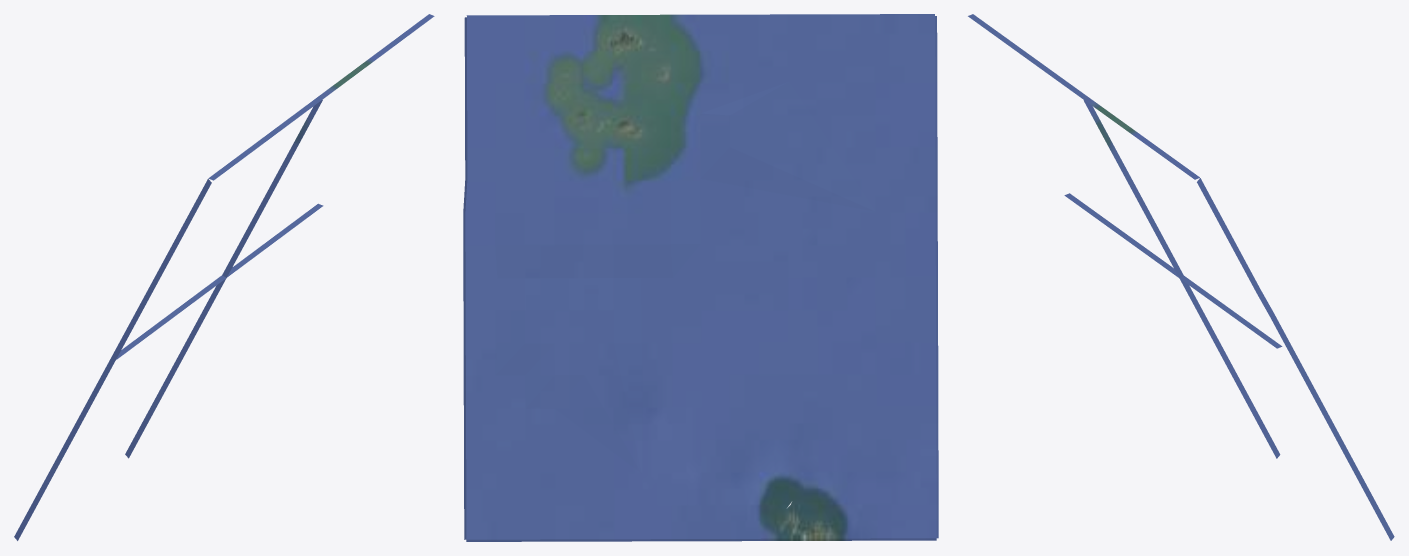
3 views of the same model, side by side, from view 1: azimuth 30°, elevation 25°; view 2: azimuth 150°, elevation 25°; view 3: azimuth 270°, elevation 25° (orthographic). The views are drawn at different scales.
Bounding box in the file's own units: 39507 × 35420 × 33410.
Materials: 1 (1 with a texture image).
